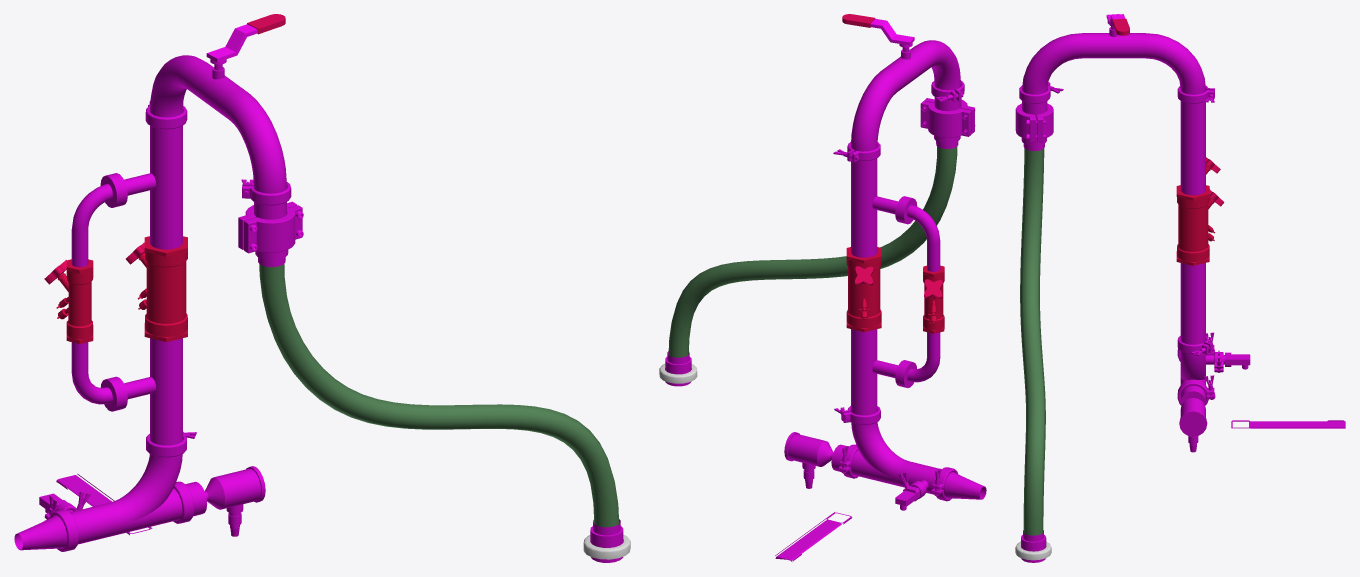
File: pressure valve.fbx
3 renders of one model, left to right at view 1: azimuth 30°, elevation 25°; view 2: azimuth 150°, elevation 25°; view 3: azimuth 270°, elevation 25°, orthographic. The views are drawn at different scales.
Visible parts, largest first — view 1: NurbsPath.004; view 2: NurbsPath.004; view 3: NurbsPath.004.
Boxes of the visible parts, x1,y1,x2,y2 form: NurbsPath.004: (14,14,630,562); NurbsPath.004: (659,14,986,561); NurbsPath.004: (1015,14,1345,562).
Bounding box in the file's own units: 69.94 × 74.44 × 52.04.
